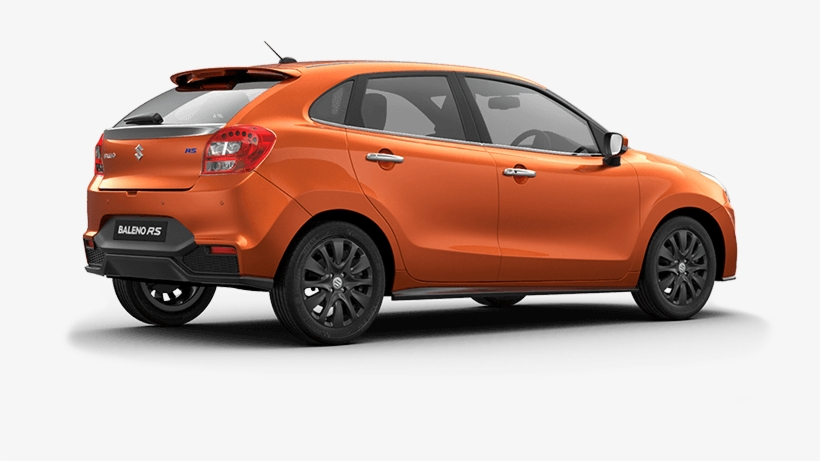car: (86, 60, 738, 344)
